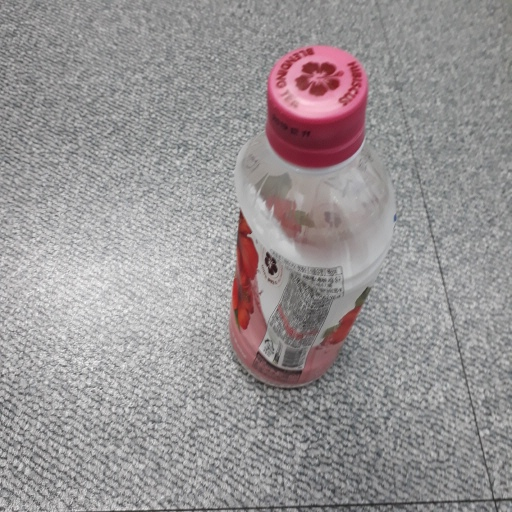Plastic_0: (228, 46, 397, 388)
